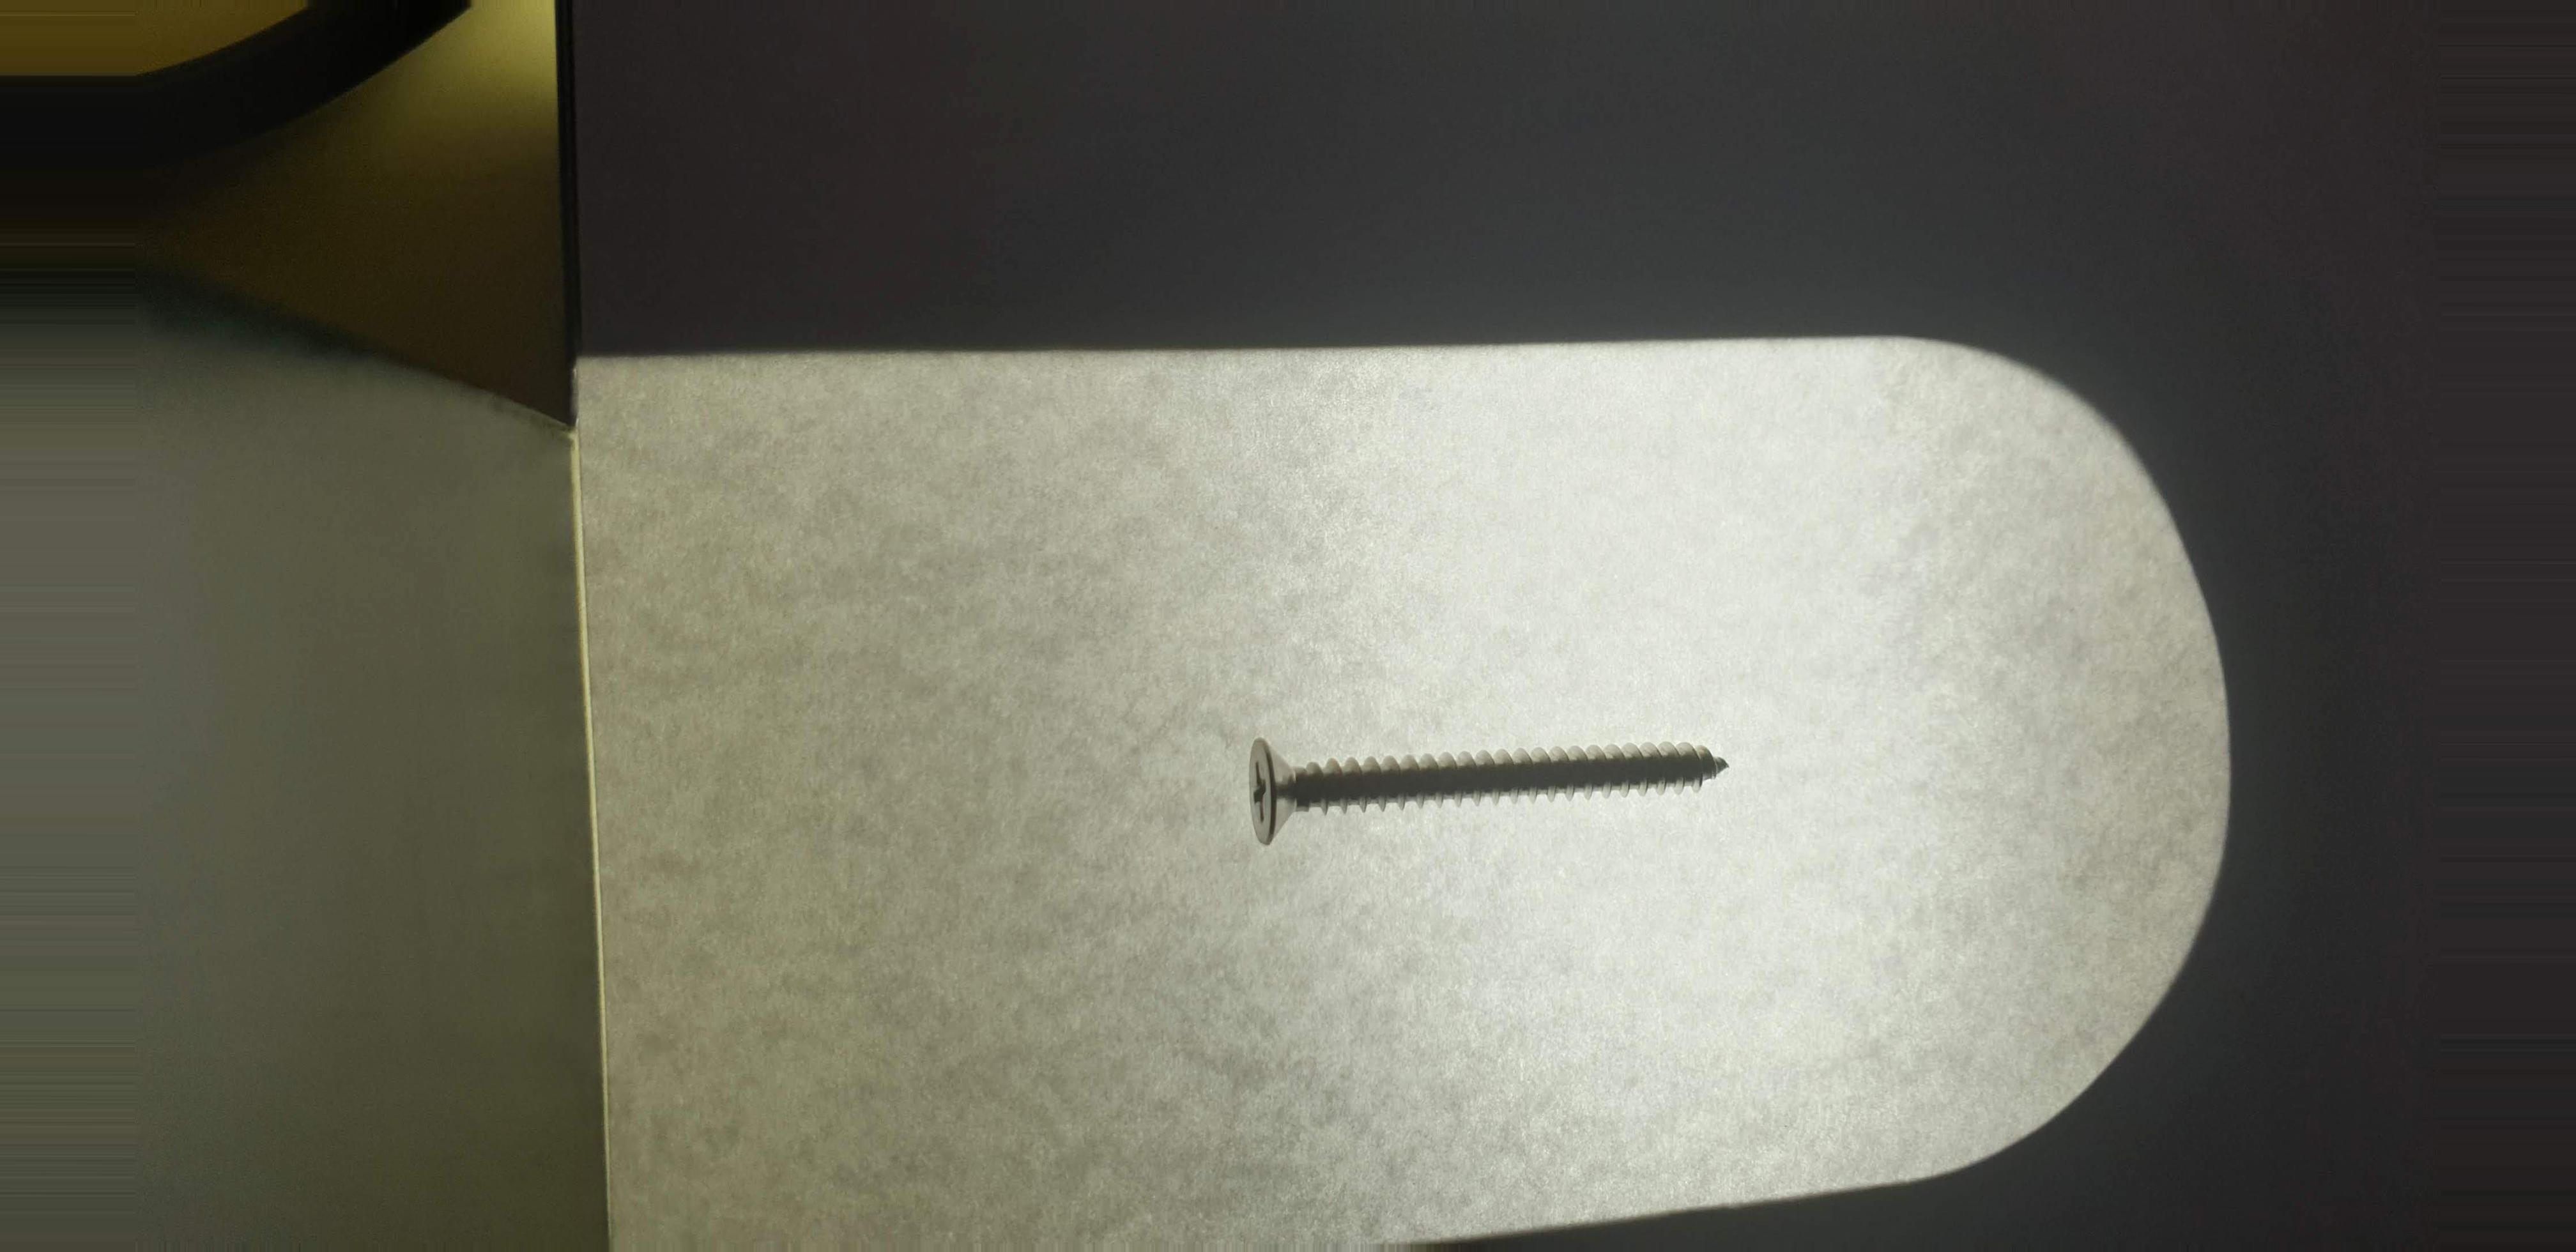S001: (1198, 705, 1768, 859)
